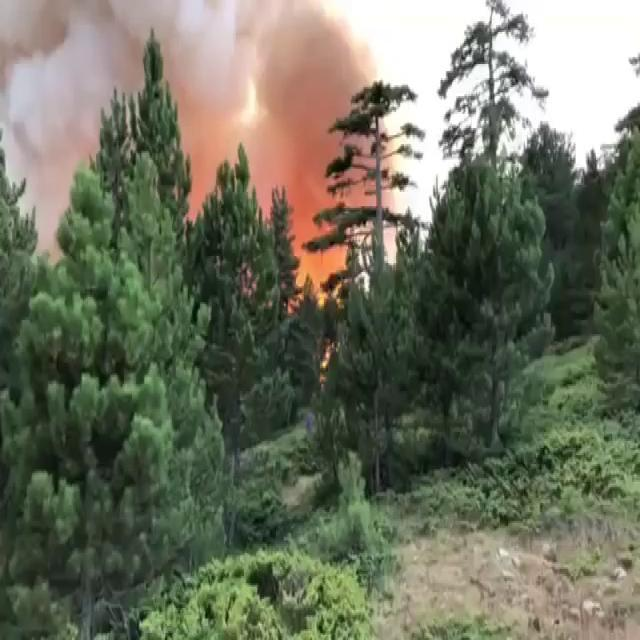Fire: (275, 172, 355, 316)
Smoke: (238, 0, 355, 117)
